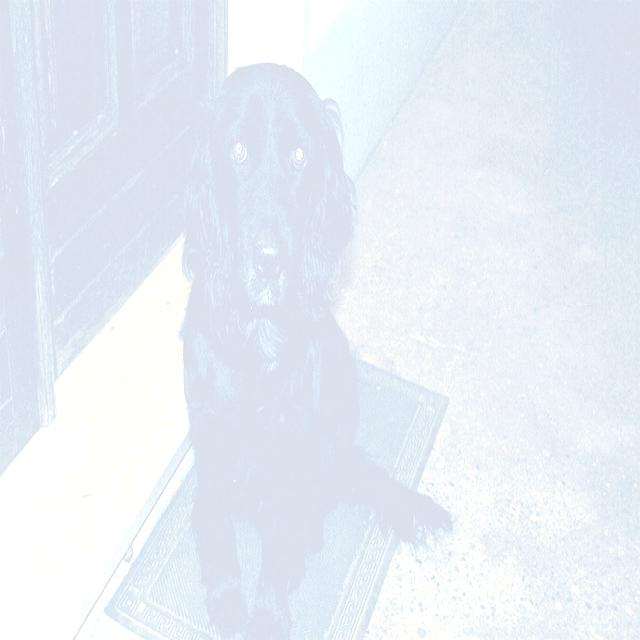Dog: (98, 66, 521, 626)
